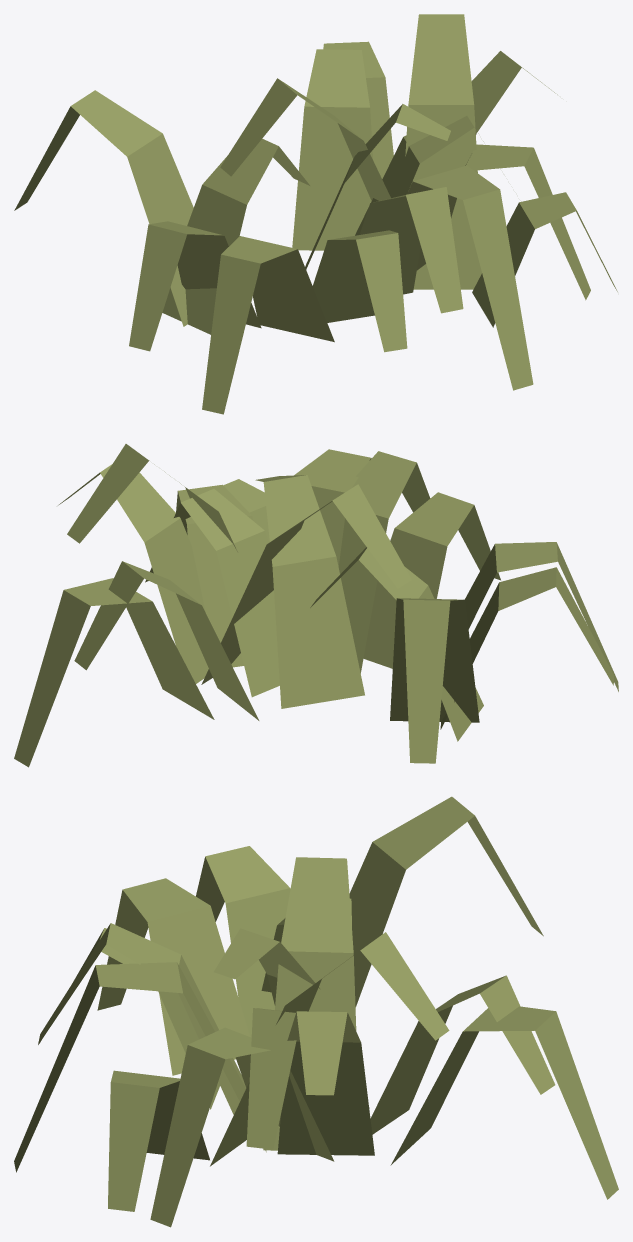
File: grass_1.glb
3 views of the same model, one above another, from view 1: azimuth 30°, elevation 25°; view 2: azimuth 150°, elevation 25°; view 3: azimuth 270°, elevation 25° (orthographic). The views are drawn at different scales.
Parts seen in each view (by area): view 1: grass_2; view 2: grass_2; view 3: grass_2.
Boxes of the visible parts, left/top/right/bottom form: grass_2: left=14, top=14, right=617, bottom=414; grass_2: left=14, top=444, right=618, bottom=767; grass_2: left=14, top=796, right=618, bottom=1227.
Bounding box in the file's own units: 0.4507 × 0.2128 × 0.4349.
